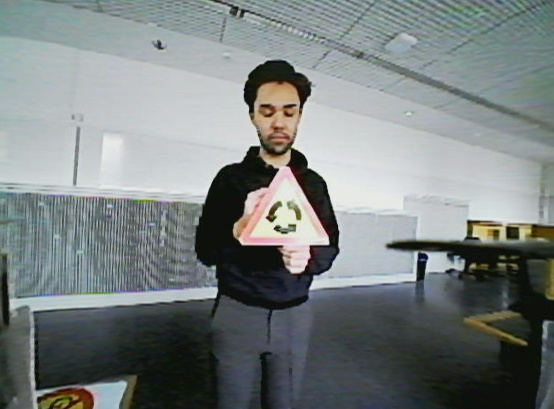roundabout_warning: (228, 161, 338, 251)
